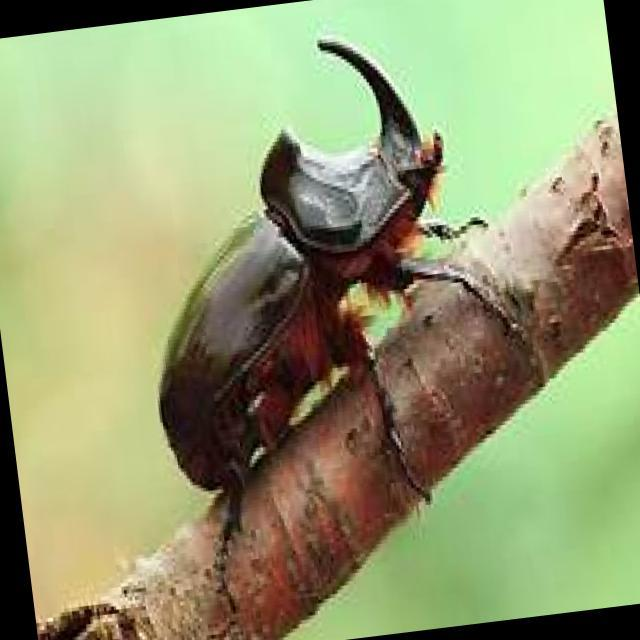Rhino-beetle: (106, 34, 472, 520)
